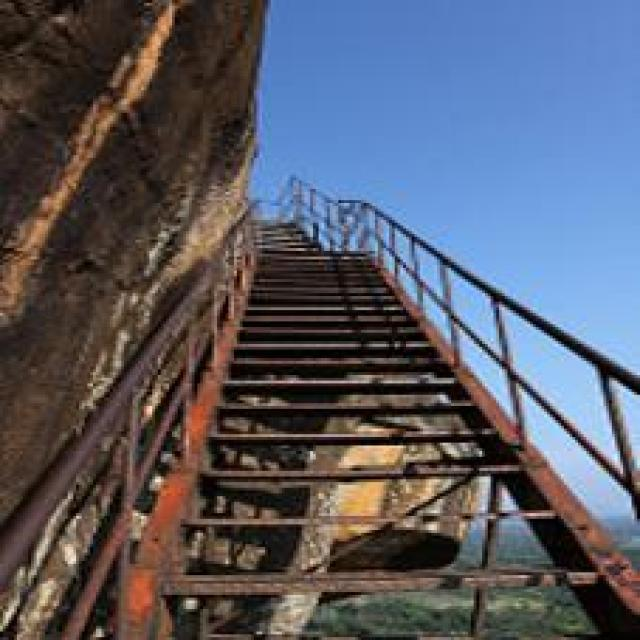stair: (186, 344, 570, 609)
